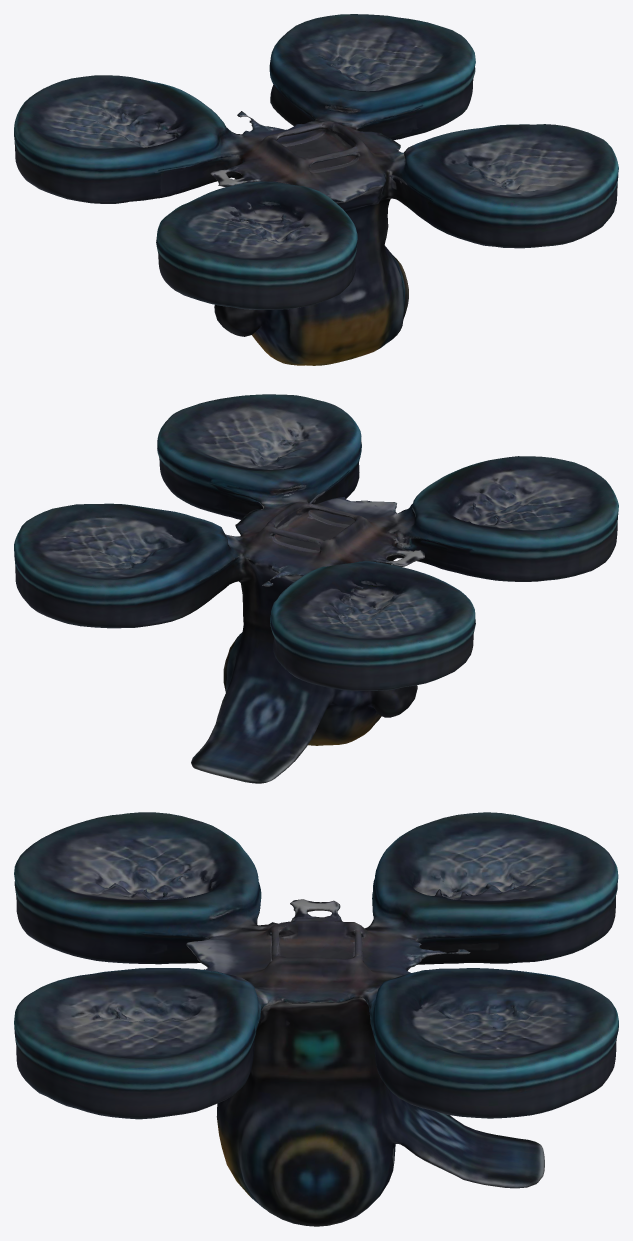
The model's file is Drone.gltf.
The picture shows the model from 3 angles, top to bottom: view 1: azimuth 30°, elevation 25°; view 2: azimuth 150°, elevation 25°; view 3: azimuth 270°, elevation 25°; orthographic projection. The views are drawn at different scales.
Parts seen in each view (by area): view 1: mesh; view 2: mesh; view 3: mesh.
Part boxes in pixels (x1=…): mesh: x1=14, y1=14, x2=618, y2=365; mesh: x1=14, y1=394, x2=618, y2=783; mesh: x1=14, y1=812, x2=618, y2=1226.
Bounding box in the file's own units: 0.998 × 0.4782 × 0.9937.
1 material, 1 textured.
